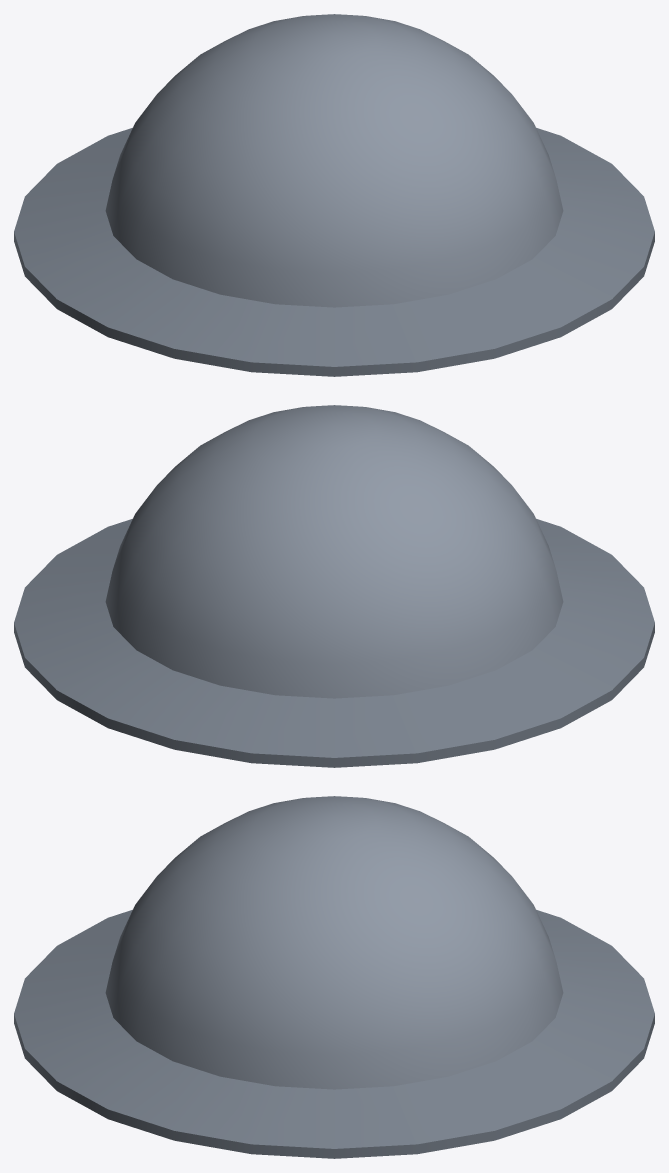
File: helmet.kettle.glb
3 views of the same model, one above another, from view 1: azimuth 30°, elevation 25°; view 2: azimuth 150°, elevation 25°; view 3: azimuth 270°, elevation 25° (orthographic).
Visible parts, largest first — view 1: helmet.kettle; view 2: helmet.kettle; view 3: helmet.kettle.
Part boxes in pixels (<box>): helmet.kettle: <box>14,14,654,376</box>; helmet.kettle: <box>14,405,654,767</box>; helmet.kettle: <box>14,796,654,1158</box>.
Bounding box in the file's own units: 0.3537 × 0.1251 × 0.3537.
